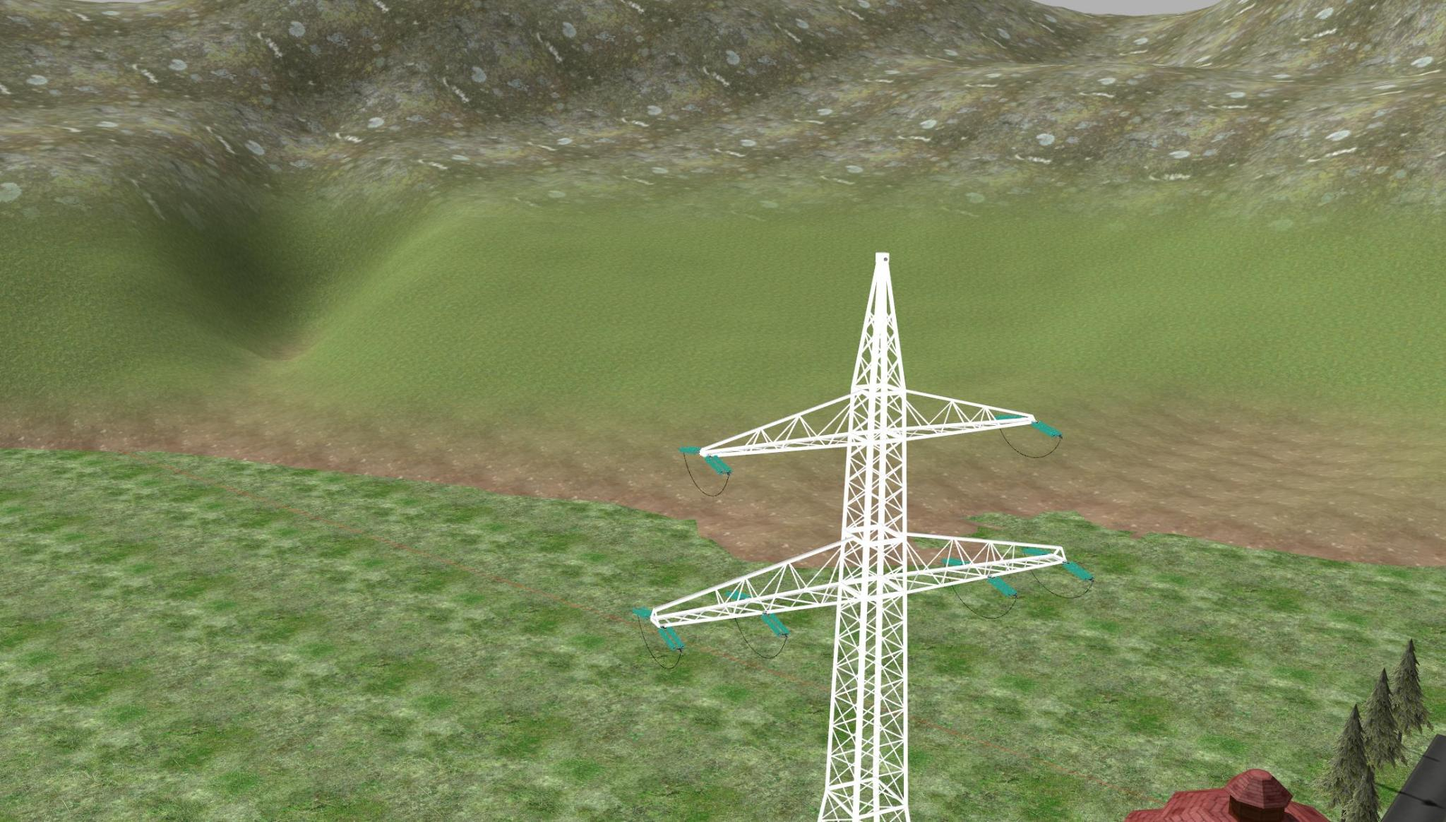tower: (649, 253, 1067, 822)
